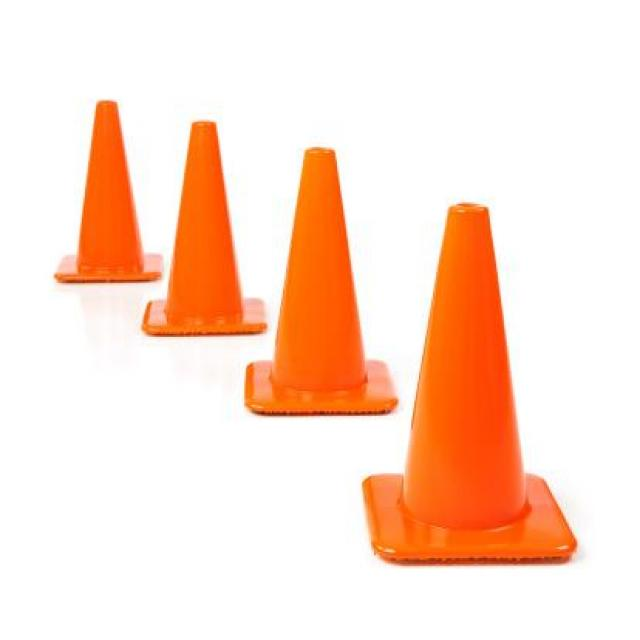Cone: (376, 201, 574, 563), (249, 147, 388, 410), (148, 122, 266, 332), (45, 100, 159, 283)
